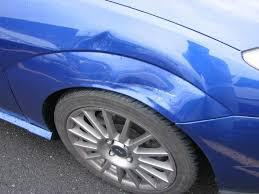fender-dent: (30, 11, 197, 110)
